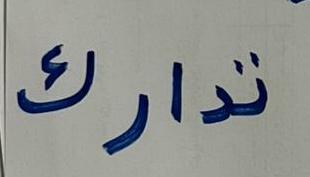alef: (159, 43, 195, 136)
dal: (197, 74, 232, 132)
kaf: (10, 18, 100, 135)
reh: (102, 70, 156, 164)
teh: (234, 46, 275, 126)
